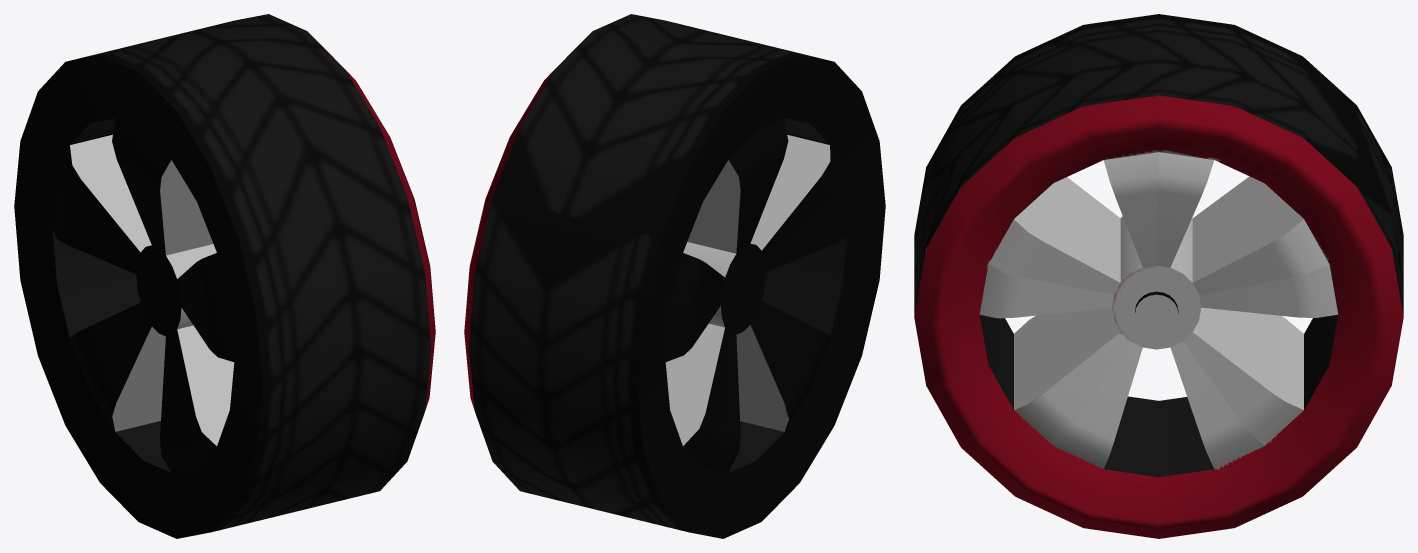
Rendered from car_leftfrontwheel.obj.
3 views of the same model, side by side, from view 1: azimuth 30°, elevation 25°; view 2: azimuth 150°, elevation 25°; view 3: azimuth 270°, elevation 25° (orthographic).
Parts seen in each view (by area): view 1: Front_Left_Wheel; view 2: Front_Left_Wheel; view 3: Front_Left_Wheel.
Part boxes in pixels (box(x1,y1,x2,y2)): Front_Left_Wheel: box(14, 14, 435, 538); Front_Left_Wheel: box(464, 14, 885, 538); Front_Left_Wheel: box(914, 14, 1403, 538).
Bounding box in the file's own units: 0.5821 × 1.32 × 1.32.
Materials: 1 (1 with a texture image).
